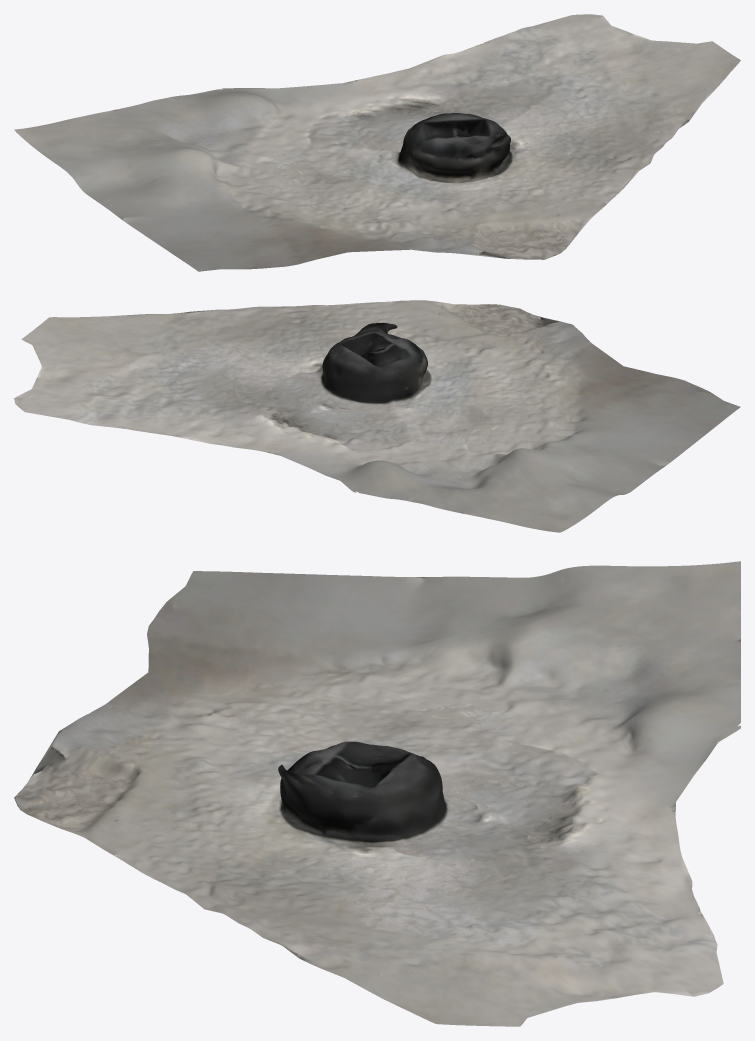
The picture shows the model from 3 angles, top to bottom: view 1: azimuth 30°, elevation 25°; view 2: azimuth 150°, elevation 25°; view 3: azimuth 270°, elevation 25°; orthographic projection. The views are drawn at different scales.
Size of the model in its own units: 3.43 by 0.2159 by 2.34.
1 material, 1 textured.
